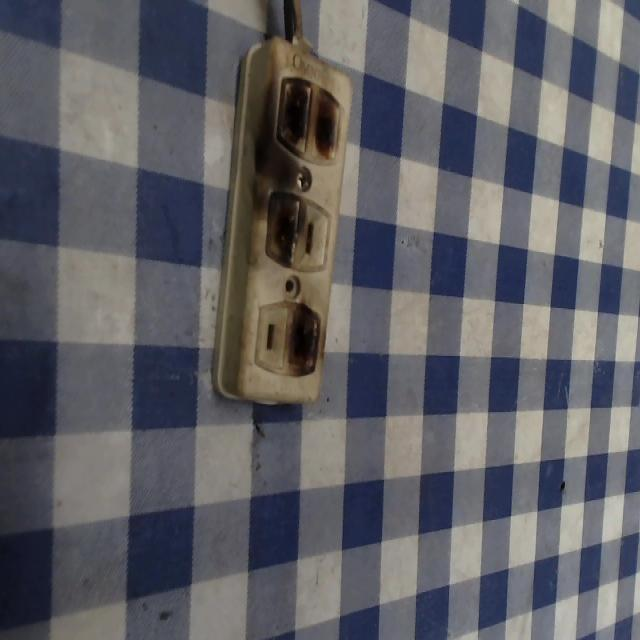-: (275, 68, 343, 169), (260, 185, 302, 267), (286, 299, 320, 377)
